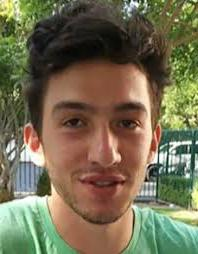face: (40, 62, 150, 225)
